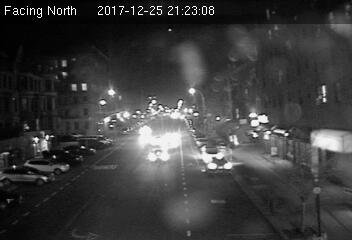car: (205, 155, 233, 173), (146, 146, 169, 164)
